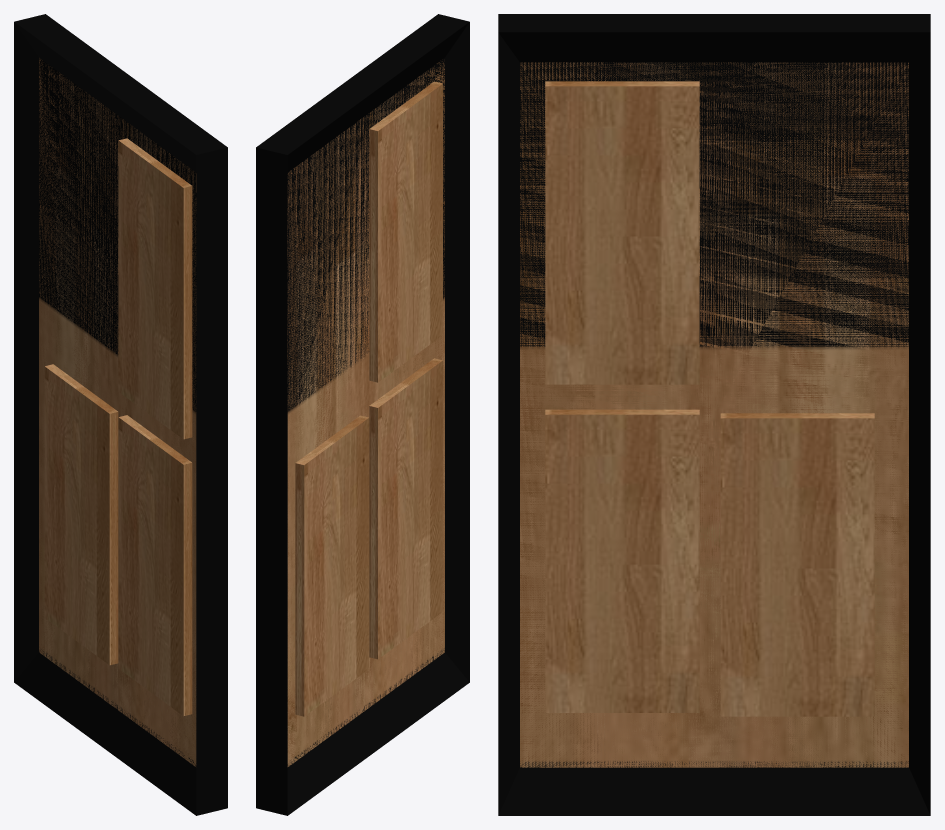
File: BarnDoor3.fbx
3 renders of one model, left to right at view 1: azimuth 30°, elevation 25°; view 2: azimuth 150°, elevation 25°; view 3: azimuth 270°, elevation 25°, orthographic. The views are drawn at different scales.
Visible parts, largest first — view 1: Cube; view 2: Cube; view 3: Cube.
Part boxes in pixels (<box>): Cube: <box>14,14,227,815</box>; Cube: <box>256,14,469,815</box>; Cube: <box>498,14,930,815</box>.
Size of the model in its own units: 20 by 400 by 200.
Materials: 1 (1 with a texture image).
